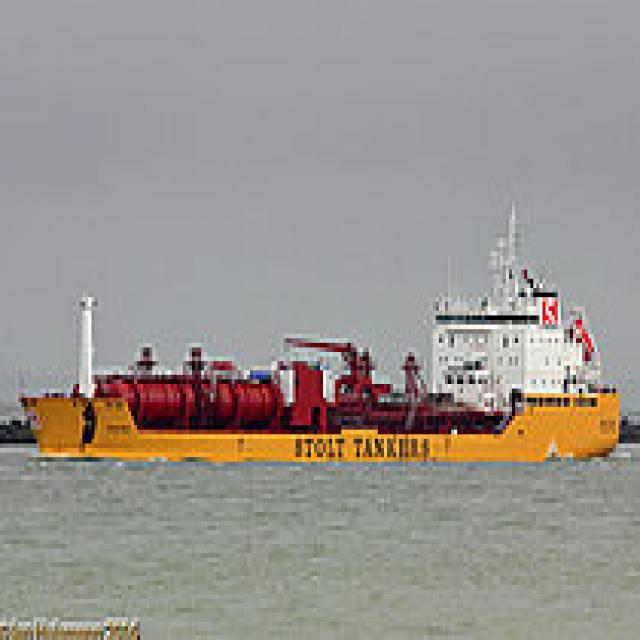Tanker: (15, 192, 616, 457)
